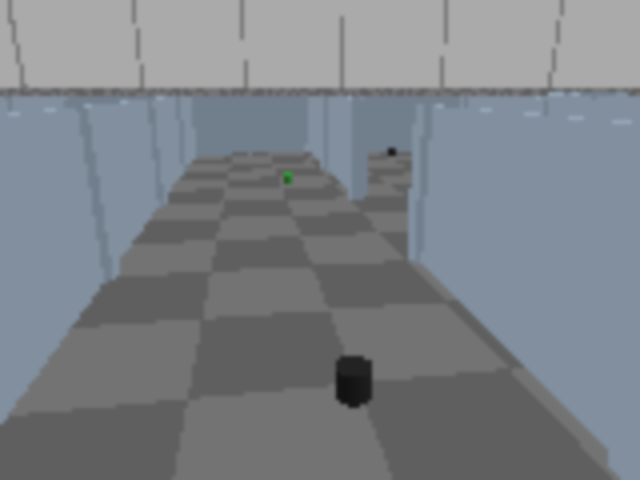puck: (339, 358, 370, 403)
